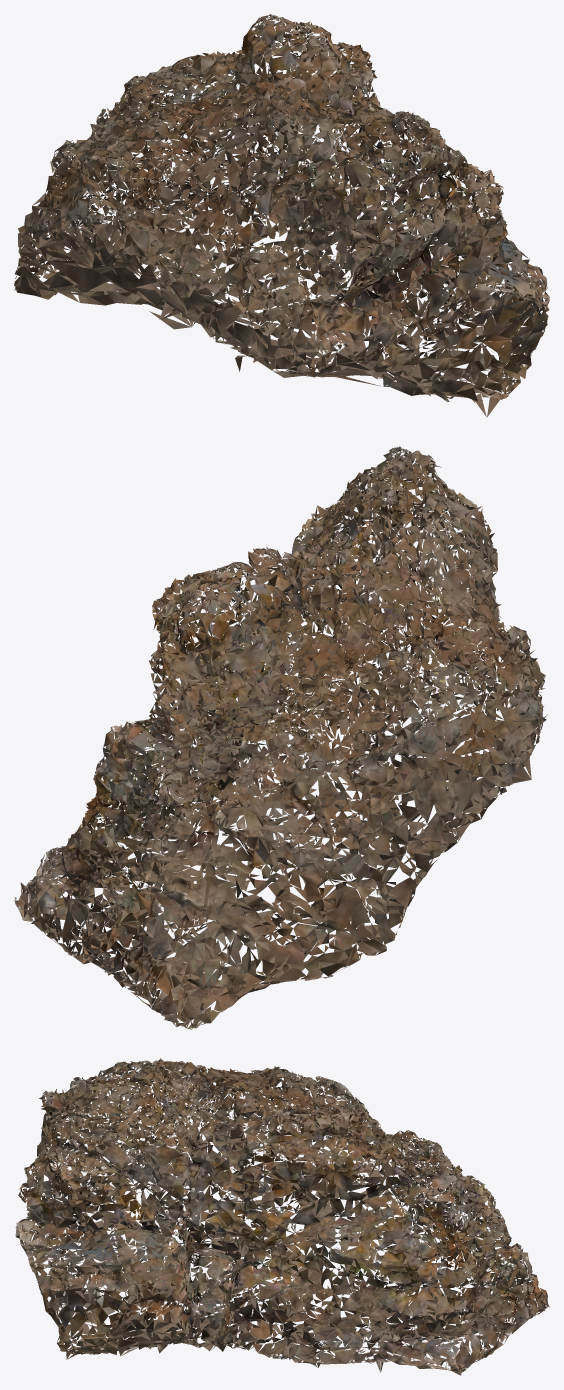
Rendered from boulder_01.gltf.
3 renders of one model, top to bottom at view 1: azimuth 30°, elevation 25°; view 2: azimuth 150°, elevation 25°; view 3: azimuth 270°, elevation 25°, orthographic. The views are drawn at different scales.
Parts seen in each view (by area): view 1: boulder_01; view 2: boulder_01; view 3: boulder_01.
Part boxes in pixels (x1=…): boulder_01: x1=14, y1=14, x2=549, y2=417; boulder_01: x1=14, y1=446, x2=547, y2=1029; boulder_01: x1=15, y1=1058, x2=549, y2=1375.
Size of the model in its own units: 1.29 by 1.01 by 1.84.
Materials: 1 (1 with a texture image).
